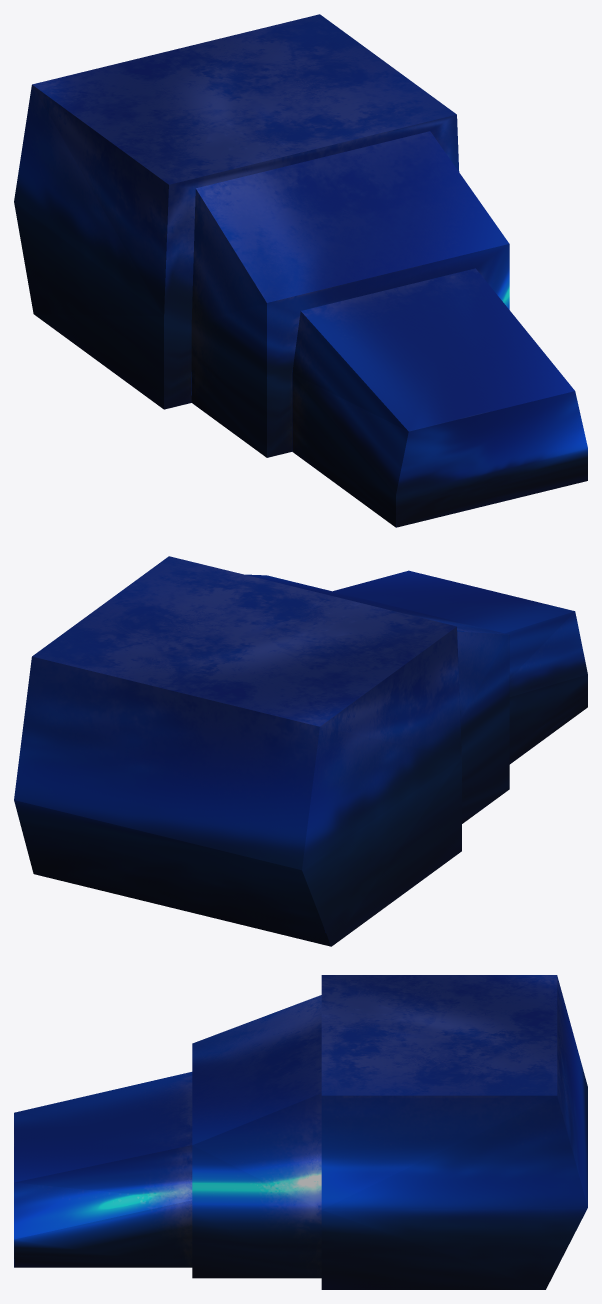
The model's file is R_FEET.obj.
3 renders of one model, top to bottom at view 1: azimuth 30°, elevation 25°; view 2: azimuth 150°, elevation 25°; view 3: azimuth 270°, elevation 25°, orthographic. The views are drawn at different scales.
Visible parts, largest first — view 1: pasted__pCube14 group; view 2: pasted__pCube14 group; view 3: pasted__pCube14 group.
Boxes of the visible parts, bbox=[...] form: pasted__pCube14 group: bbox=[14, 14, 587, 527]; pasted__pCube14 group: bbox=[14, 556, 587, 946]; pasted__pCube14 group: bbox=[14, 975, 587, 1289].
Size of the model in its own units: 1 by 0.7173 by 1.94.
Materials: 1 (1 with a texture image).
